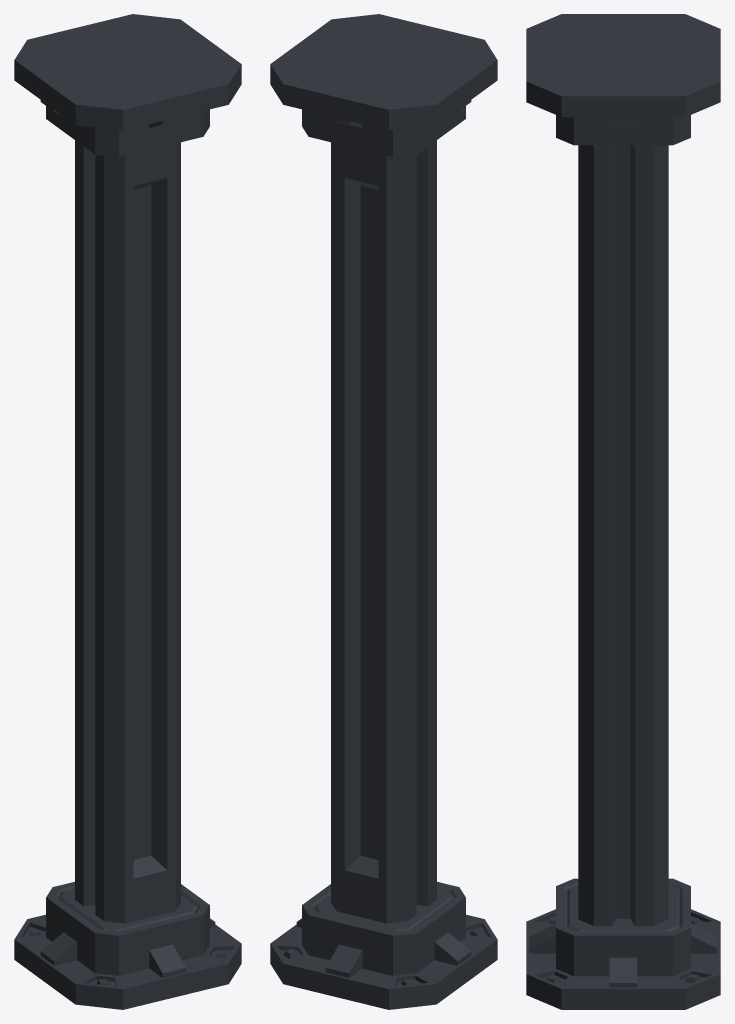
File: SM_Pillar_2.glb
The picture shows the model from 3 angles, left to right: view 1: azimuth 30°, elevation 25°; view 2: azimuth 150°, elevation 25°; view 3: azimuth 270°, elevation 25°; orthographic projection.
Parts seen in each view (by area): view 1: SM_Pillar_2; view 2: SM_Pillar_2; view 3: SM_Pillar_2.
Part boxes in pixels (x1,y1,x2,y2): SM_Pillar_2: (14,14,241,1009); SM_Pillar_2: (270,14,497,1009); SM_Pillar_2: (526,14,720,1009).
Size of the model in its own units: 0.772 by 4 by 0.772.
1 material, 1 textured.
